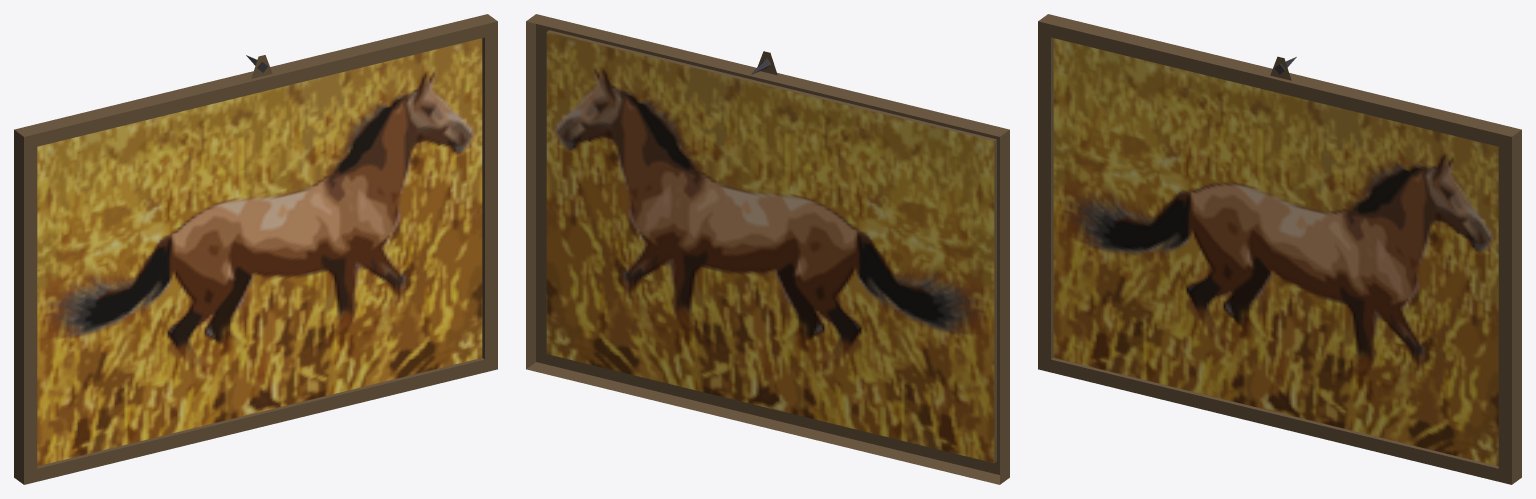
Rendered from Paint_3.fbx.
The picture shows the model from 3 angles, left to right: view 1: azimuth 30°, elevation 25°; view 2: azimuth 150°, elevation 25°; view 3: azimuth 330°, elevation 25°; orthographic projection.
Visible parts, largest first — view 1: polySurface2954; view 2: polySurface2954; view 3: polySurface2954.
Boxes of the visible parts, box(x1,y1,x2,y2) form: polySurface2954: box(14, 14, 497, 484); polySurface2954: box(526, 14, 1009, 484); polySurface2954: box(1038, 14, 1521, 484).
Size of the model in its own units: 163 by 121 by 11.26.
